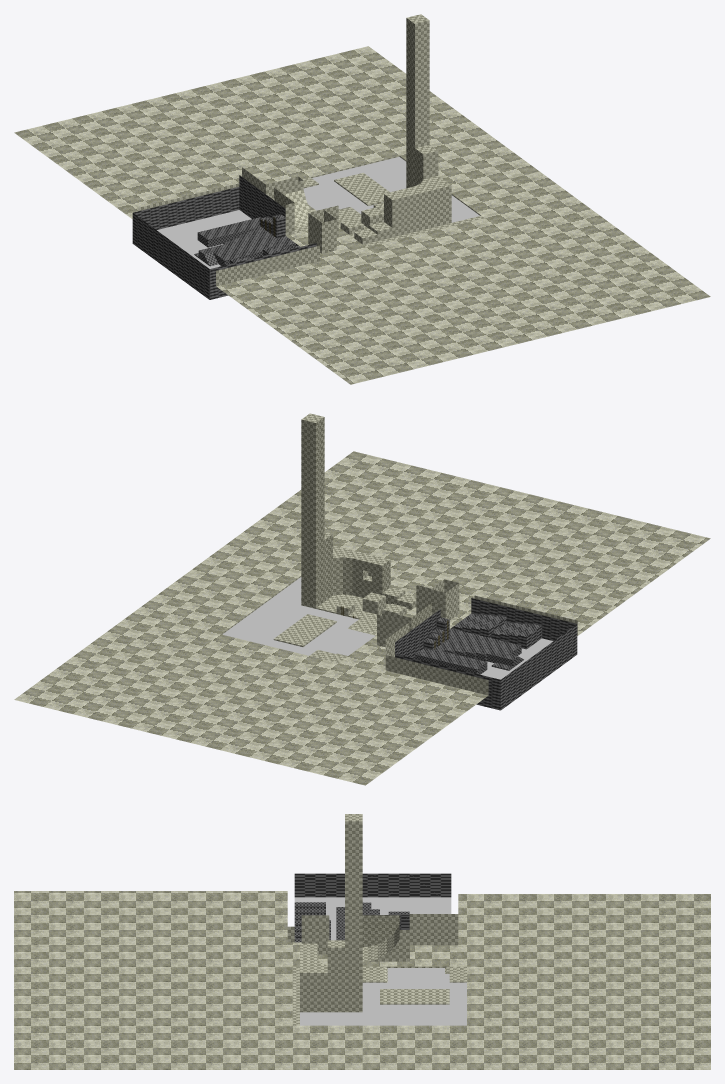
Rendered from Map00_Room00.fbx.
The picture shows the model from 3 angles, top to bottom: view 1: azimuth 30°, elevation 25°; view 2: azimuth 150°, elevation 25°; view 3: azimuth 270°, elevation 25°; orthographic projection. The views are drawn at different scales.
Visible parts, largest first — view 1: ob_03003438, ob_030020B0, ob_03004D78, ob_03008E90, ob_03003738, ob_03004718, ob_030059D0, ob_030042F0, ob_03002D48, ob_03003B48, ob_03005EB0; view 2: ob_03003438, ob_030020B0, ob_03004718, ob_03008E90, ob_03003738, ob_03004D78, ob_030059D0, ob_030042F0, ob_03002D48, ob_03003B48, ob_03000250, ob_03005EB0; view 3: ob_03003438, ob_03008E90, ob_03004D78, ob_030020B0, ob_030059D0, ob_03003738, ob_03003988, ob_030042F0, ob_03003B48.
Boxes of the visible parts, x1,y1,x2,y2 form: ob_03003438: (14,46,710,384); ob_030020B0: (132,175,316,299); ob_03004D78: (338,14,484,246); ob_03008E90: (157,156,479,268); ob_03003738: (138,167,319,286); ob_03004718: (384,18,423,227); ob_030059D0: (302,155,406,220); ob_030042F0: (308,205,338,253); ob_03002D48: (253,196,285,246); ob_03003B48: (266,176,308,235); ob_03005EB0: (340,207,383,234); ob_03003438: (14,451,710,785); ob_030020B0: (395,598,577,710); ob_03004718: (301,417,411,609); ob_03008E90: (222,577,553,679); ob_03003738: (385,595,577,695); ob_03004D78: (272,413,416,622); ob_030059D0: (221,597,376,662); ob_030042F0: (416,579,459,620); ob_03002D48: (423,609,467,651); ob_03003B48: (377,603,440,647); ob_03000250: (454,613,530,673); ob_03005EB0: (362,592,406,615); ob_03003438: (14,891,710,1069); ob_03008E90: (294,897,466,1025); ob_03004D78: (292,814,362,1025); ob_030020B0: (294,873,451,940); ob_030059D0: (362,966,466,1004); ob_03003738: (287,914,458,945); ob_03003988: (362,915,399,946); ob_030042F0: (301,915,329,954); ob_03003B48: (362,923,409,961).
Bounding box in the file's own units: 102 × 54.17 × 167.
